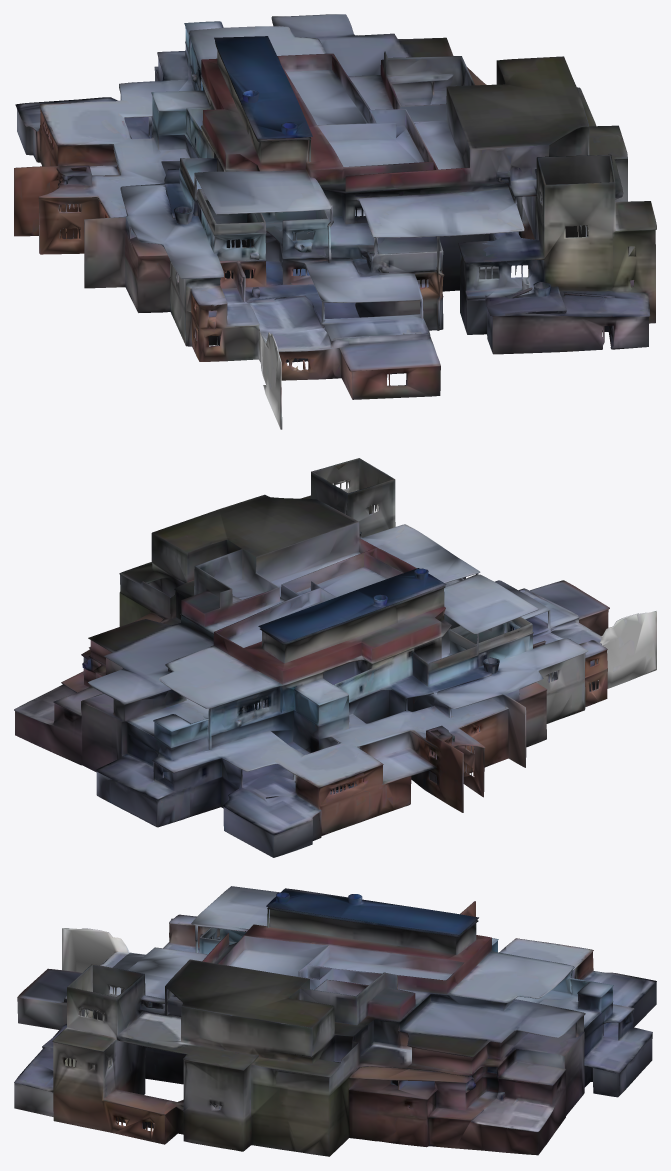
The model's file is favela-a.glb.
The picture shows the model from 3 angles, top to bottom: view 1: azimuth 30°, elevation 25°; view 2: azimuth 150°, elevation 25°; view 3: azimuth 270°, elevation 25°; orthographic projection. The views are drawn at different scales.
Parts seen in each view (by area): view 1: node_0; view 2: node_0; view 3: node_0.
Part boxes in pixels (x1=…): node_0: x1=14, y1=14, x2=656, y2=429; node_0: x1=14, y1=458, x2=656, y2=857; node_0: x1=14, y1=886, x2=656, y2=1156.
Size of the model in its own units: 0.7925 by 0.2784 by 1.08.
1 material, 1 textured.
